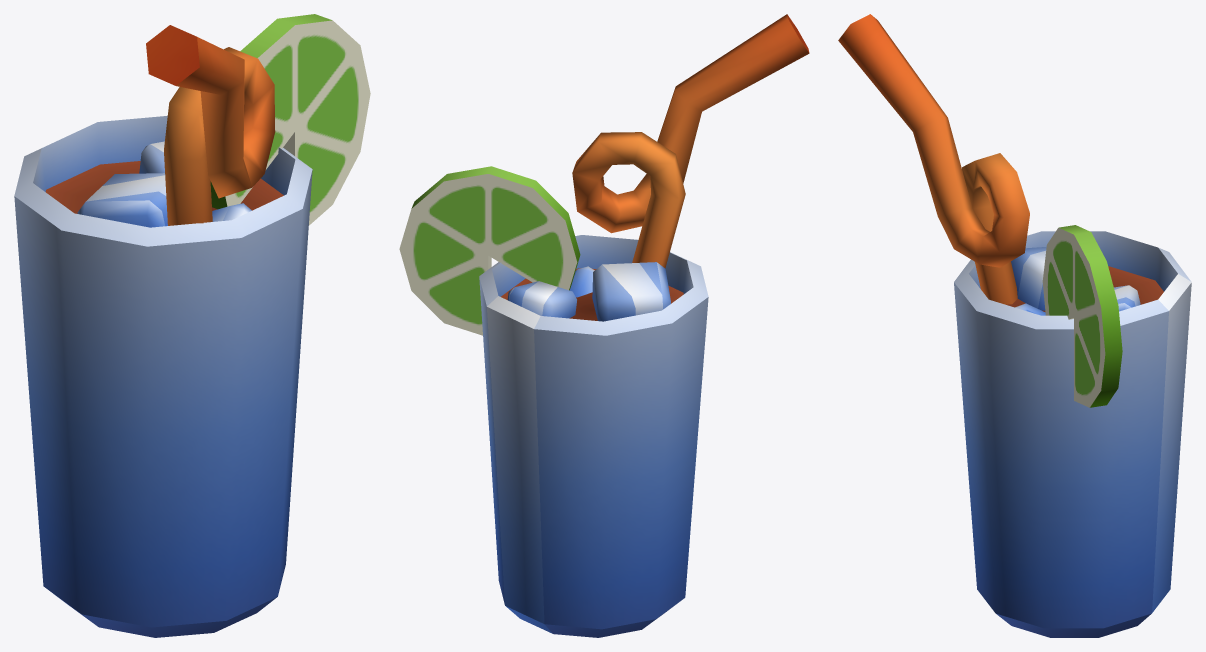
File: m_CubaLibre01.fbx
3 views of the same model, side by side, from view 1: azimuth 30°, elevation 25°; view 2: azimuth 150°, elevation 25°; view 3: azimuth 270°, elevation 25° (orthographic). The views are drawn at different scales.
Visible parts, largest first — view 1: m_CubaLibre01; view 2: m_CubaLibre01; view 3: m_CubaLibre01.
Boxes of the visible parts, bbox=[...] form: m_CubaLibre01: bbox=[14, 14, 370, 637]; m_CubaLibre01: bbox=[399, 14, 809, 637]; m_CubaLibre01: bbox=[838, 14, 1191, 637].
Size of the model in its own units: 18.46 by 32.78 by 19.29.
